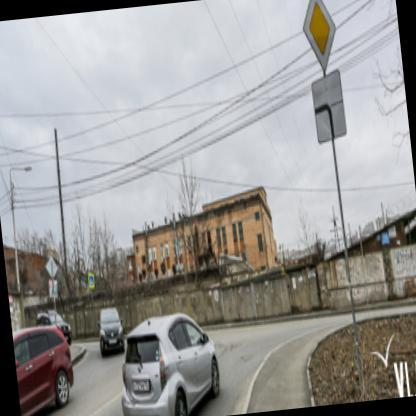road_sign: (312, 70, 346, 142), (304, 0, 336, 76), (87, 273, 95, 291)
